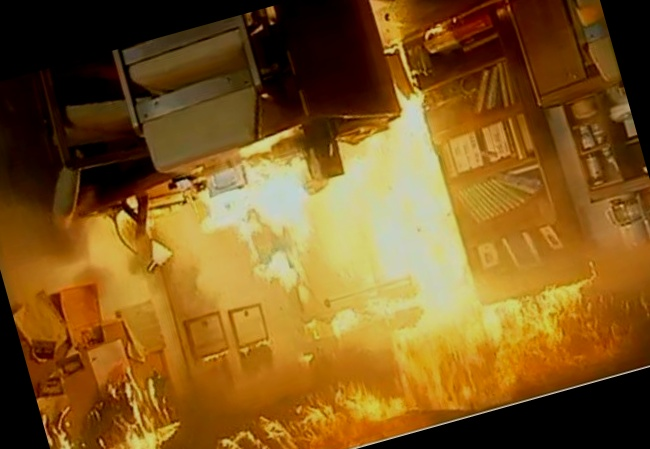fire: (0, 48, 650, 449)
